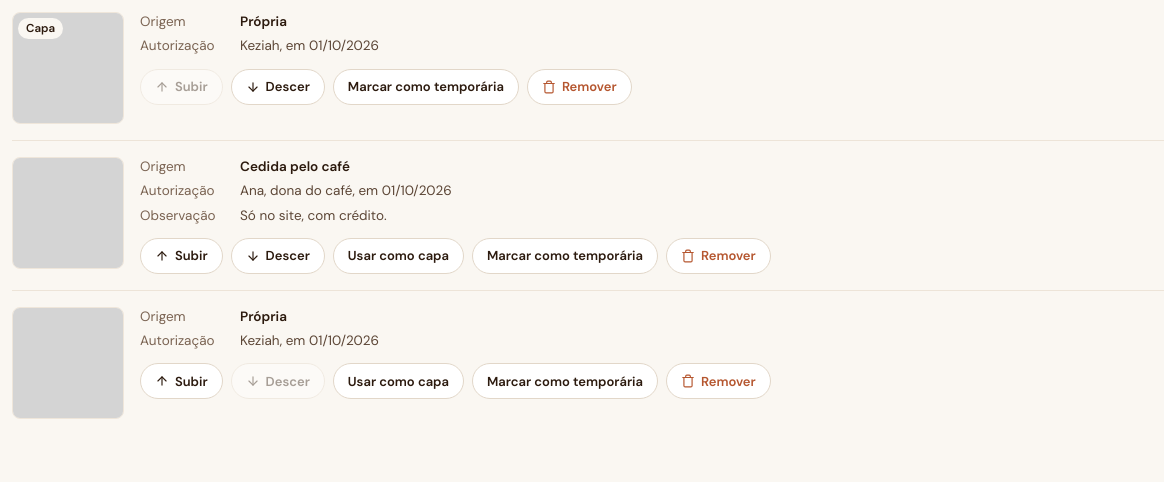
it: ListaDeFotos › erro ao marcar aparece e nada é anunciado
Click the button with aria-label "Marcar foto 1 de 3 como temporária".
click(426, 86)  # box [333,68,519,104]
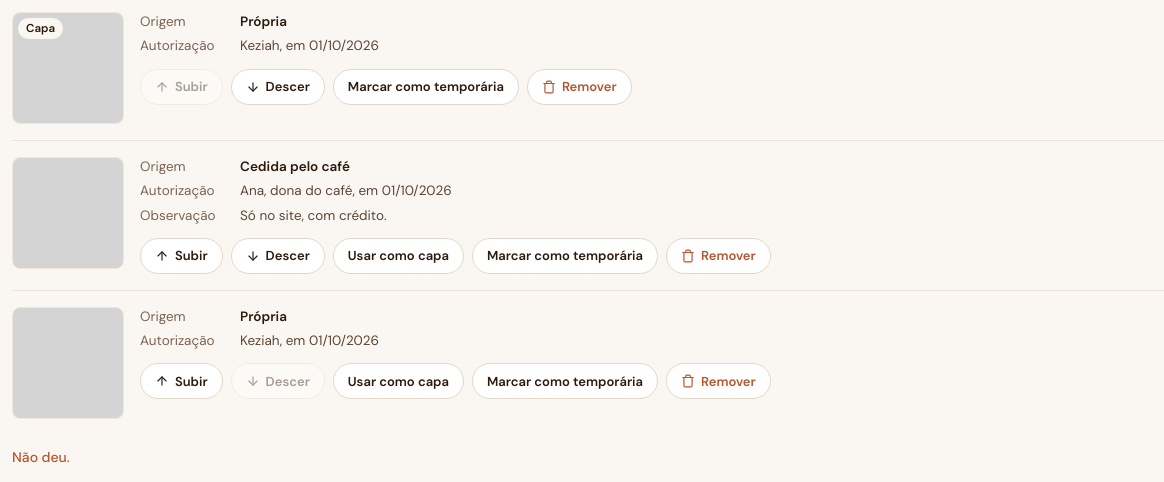
Expected: the text "Não deu." is shown, [12,448,70,466]
